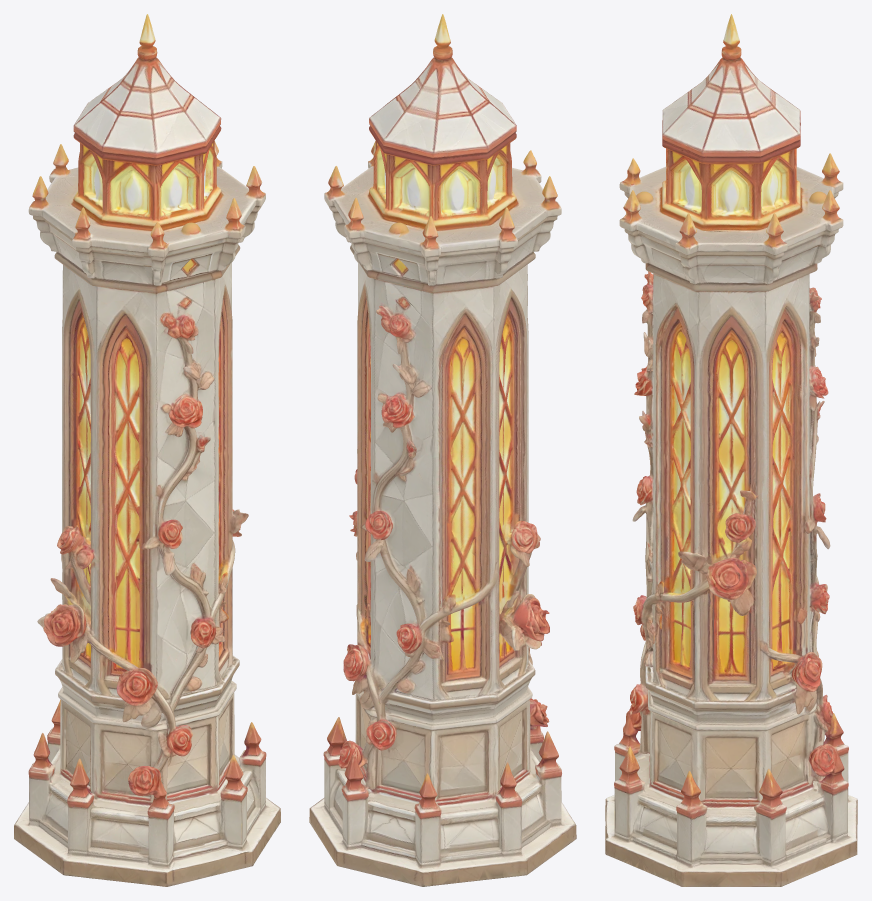
Rendered from entry-lantern-tower.glb.
3 views of the same model, side by side, from view 1: azimuth 30°, elevation 25°; view 2: azimuth 150°, elevation 25°; view 3: azimuth 270°, elevation 25° (orthographic).
Bounding box in the file's own units: 0.5295 × 1.9 × 0.5294.
1 material, 1 textured.
